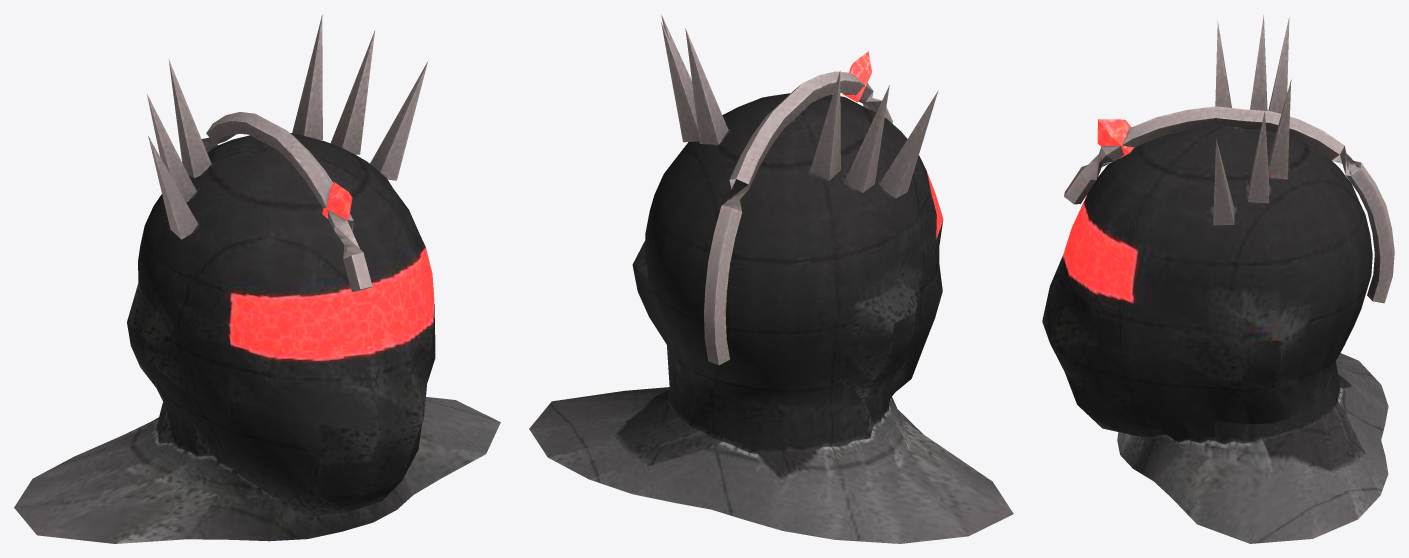
File: Capuz_de_Guerreiro_nivel100.glb
3 renders of one model, left to right at view 1: azimuth 30°, elevation 25°; view 2: azimuth 150°, elevation 25°; view 3: azimuth 270°, elevation 25°, orthographic. The views are drawn at different scales.
Parts seen in each view (by area): view 1: capuz_de_guerreiro_nivel100; view 2: capuz_de_guerreiro_nivel100; view 3: capuz_de_guerreiro_nivel100.
Boxes of the visible parts, x1,y1,x2,y2 form: capuz_de_guerreiro_nivel100: [14, 15, 500, 543]; capuz_de_guerreiro_nivel100: [529, 15, 1013, 543]; capuz_de_guerreiro_nivel100: [1042, 14, 1394, 543].
Size of the model in its own units: 0.4628 by 0.4107 by 0.3319.
Materials: 1 (1 with a texture image).
